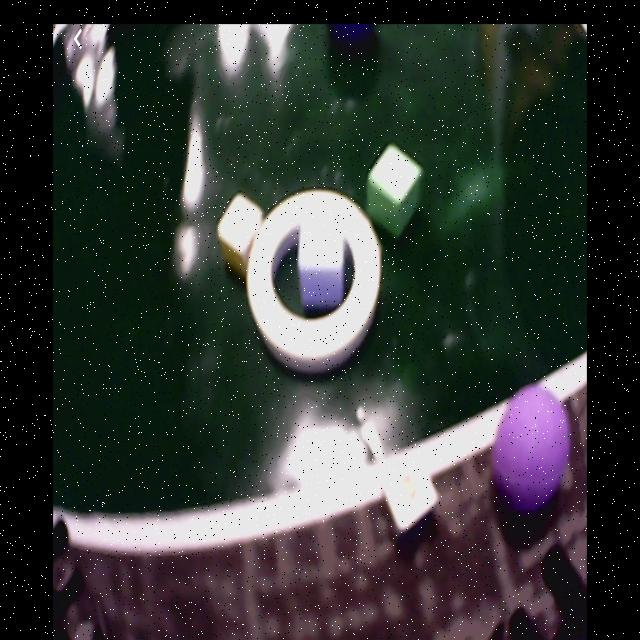ball: (494, 387, 573, 511), (330, 23, 379, 51)
